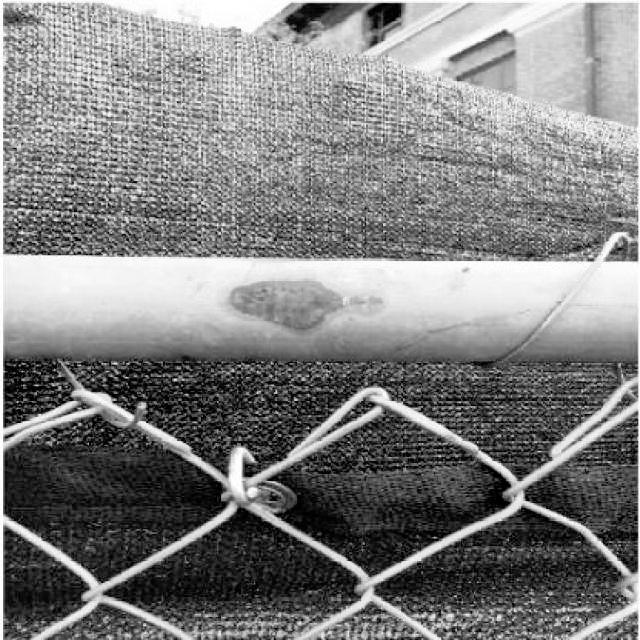Corrosion: (231, 281, 344, 330)
